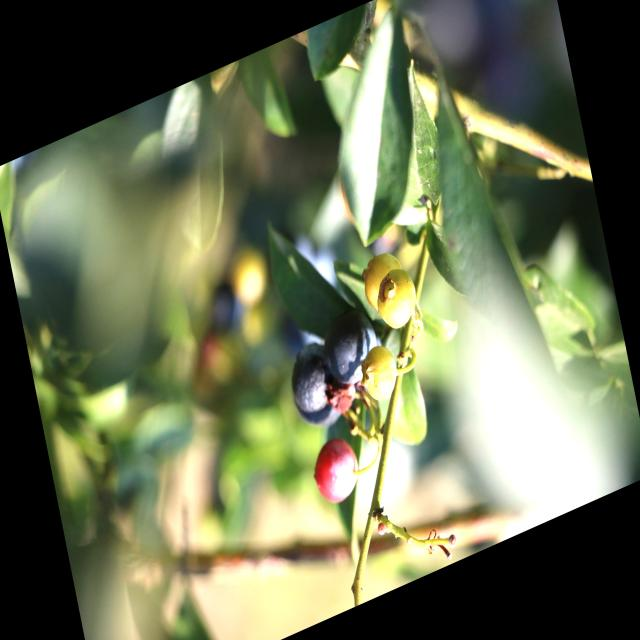blueberry: (287, 333, 354, 438), (323, 310, 381, 395)
blueberry-halfripe: (309, 429, 366, 512)
blueberry-unripe: (356, 244, 411, 316), (372, 262, 424, 338), (356, 337, 404, 413)
